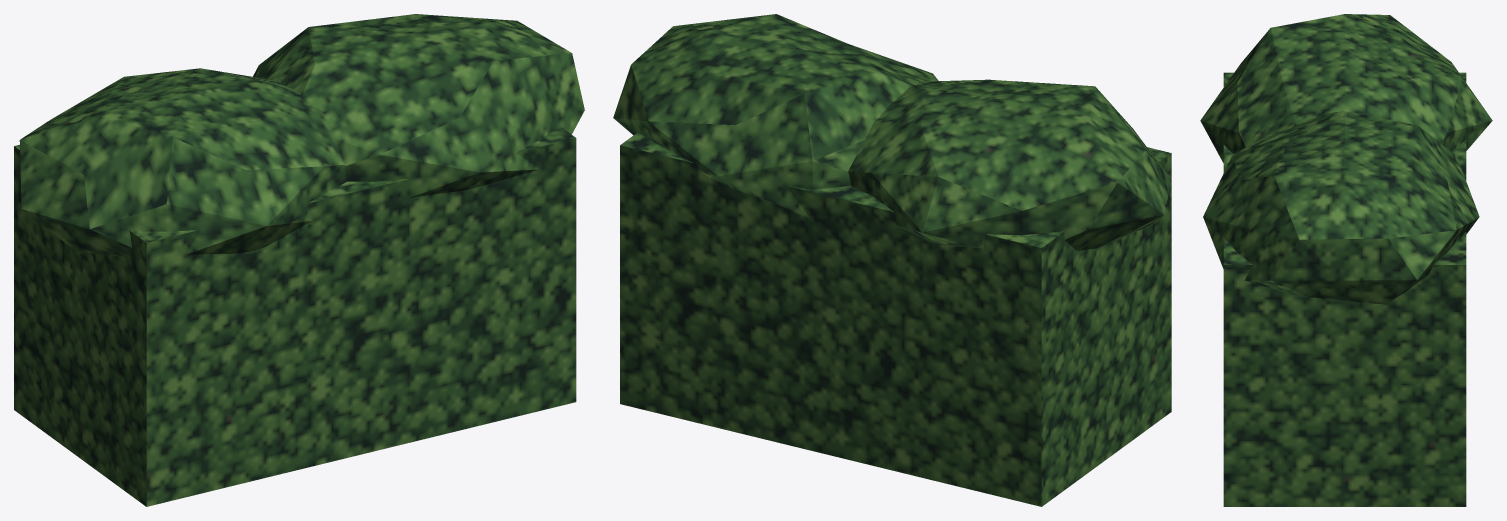
The model's file is VG_Hedge.obj.
3 renders of one model, left to right at view 1: azimuth 30°, elevation 25°; view 2: azimuth 150°, elevation 25°; view 3: azimuth 270°, elevation 25°, orthographic. The views are drawn at different scales.
Visible parts, largest first — view 1: VG_Hedge; view 2: VG_Hedge; view 3: VG_Hedge.
Boxes of the visible parts, x1,y1,x2,y2 form: VG_Hedge: (14,14,584,506); VG_Hedge: (613,14,1171,506); VG_Hedge: (1200,14,1492,506).
Size of the model in its own units: 1.83 by 1.14 by 0.9636.
1 material, 1 textured.
